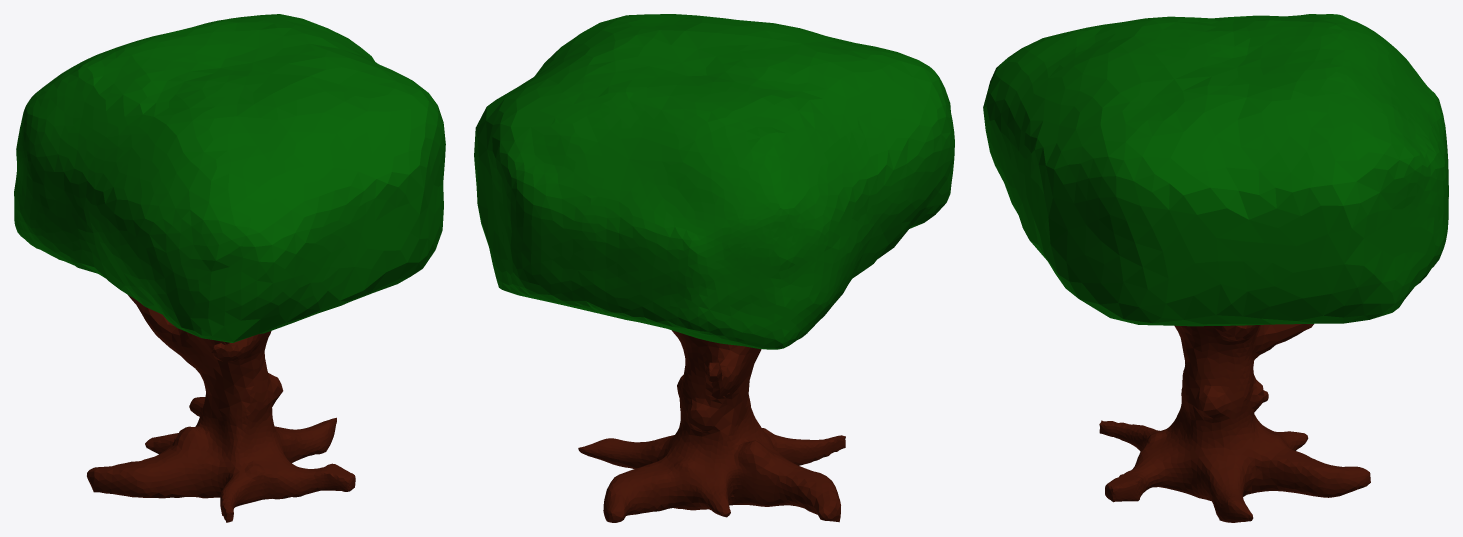
File: tree.obj
3 renders of one model, left to right at view 1: azimuth 30°, elevation 25°; view 2: azimuth 150°, elevation 25°; view 3: azimuth 270°, elevation 25°, orthographic. The views are drawn at different scales.
Parts seen in each view (by area): view 1: feuillage_Cube, tronc_Cube.001; view 2: feuillage_Cube, tronc_Cube.001; view 3: feuillage_Cube, tronc_Cube.001.
Part boxes in pixels (box(x1,y1,x2,y2)): feuillage_Cube: box(14, 14, 445, 342); tronc_Cube.001: box(87, 294, 355, 522); feuillage_Cube: box(474, 14, 954, 349); tronc_Cube.001: box(578, 330, 845, 522); feuillage_Cube: box(983, 14, 1448, 326); tronc_Cube.001: box(1099, 324, 1370, 522).
Bounding box in the file's own units: 16.06 × 19.09 × 18.49.
